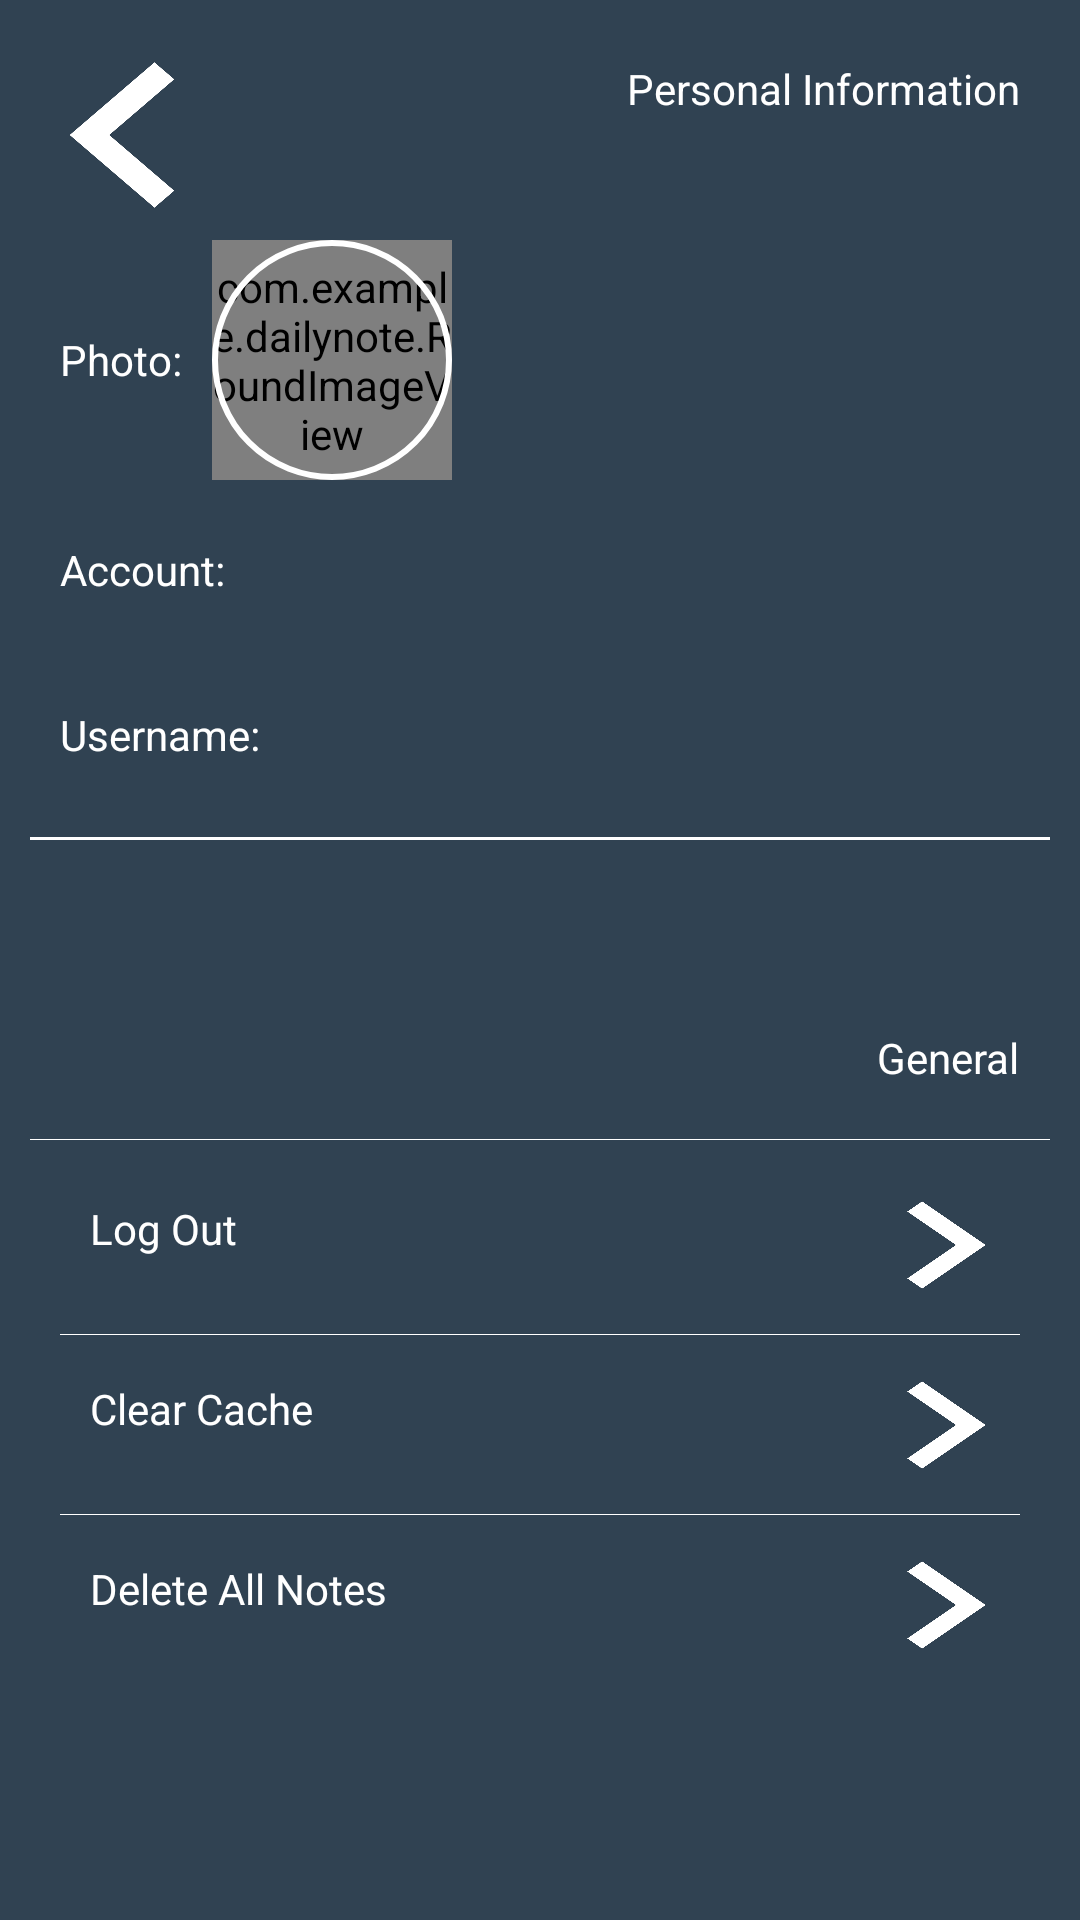

Screen size 1080*1920. Icon name, then its center in pixels as (x,y):
arrow: (946,1245), (946,1425), (946,1605)
arrow left: (122,135)
